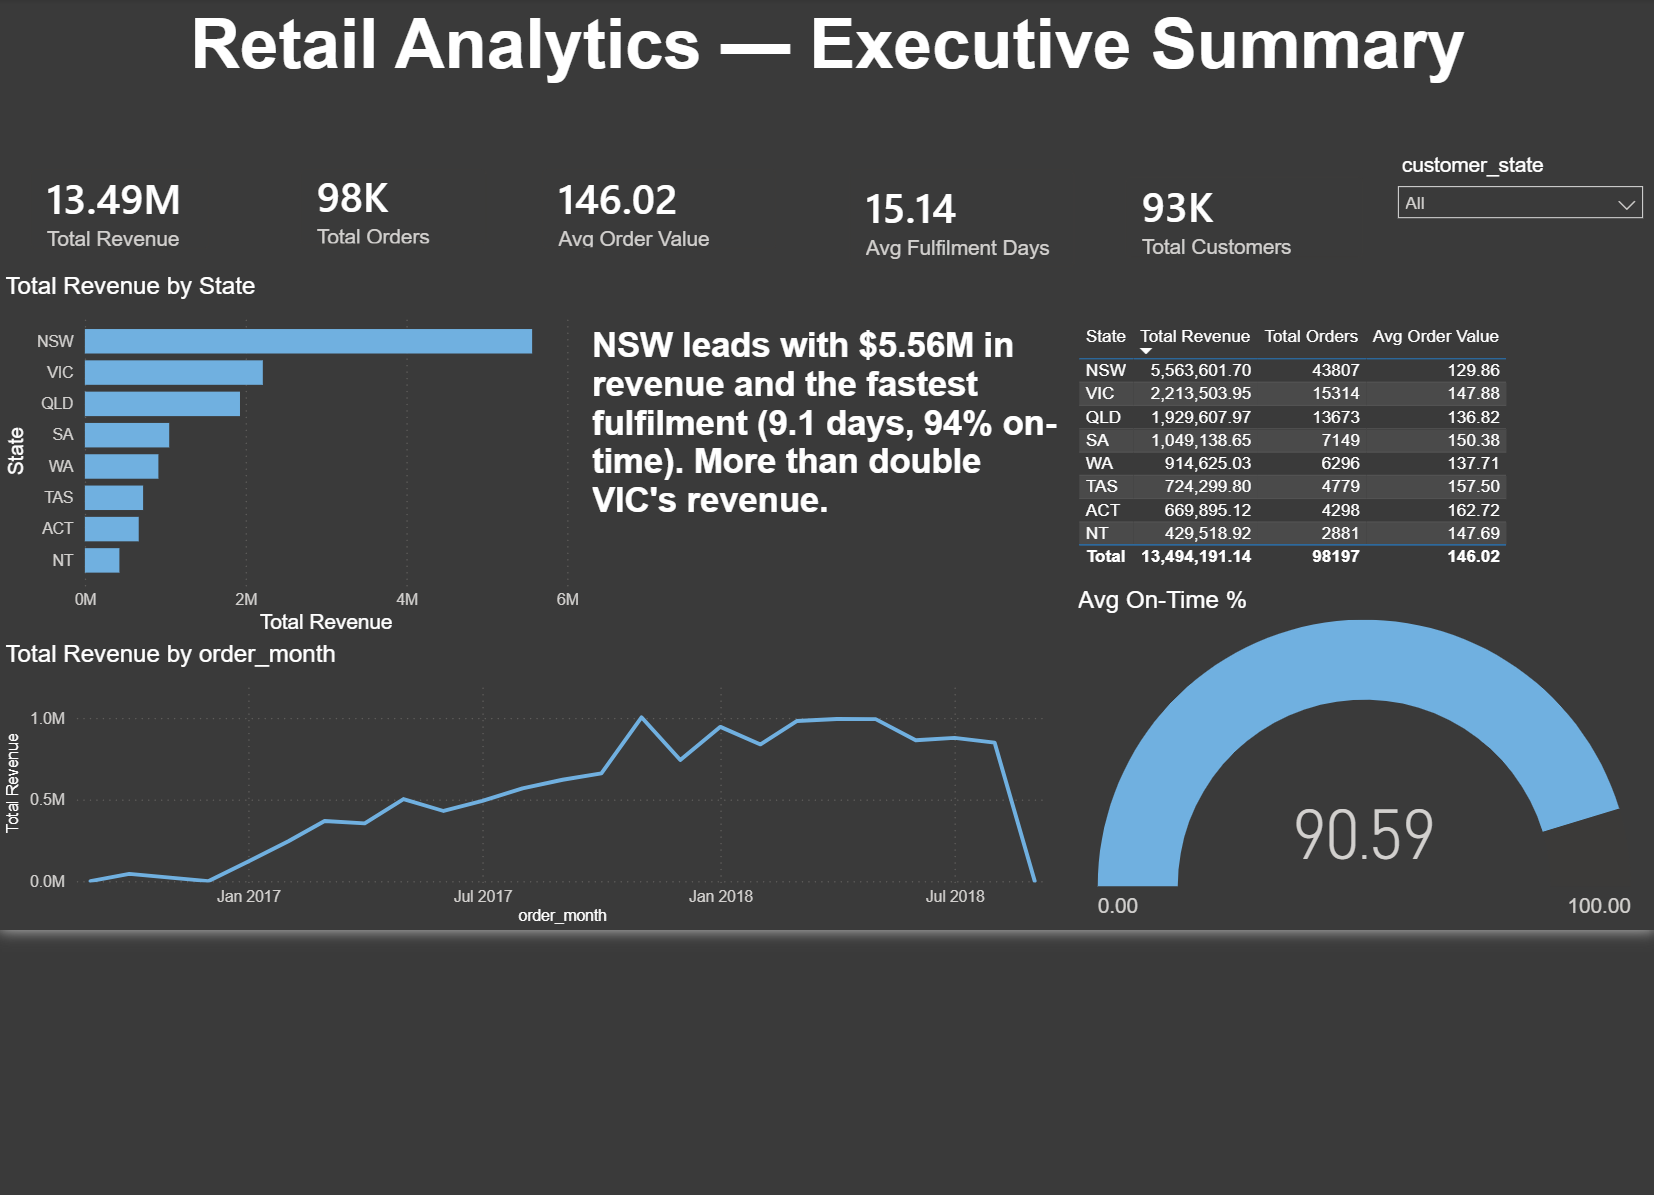

Layout of this report page (visuals, bound fields, positions):
{"tool":"powerbi","page":{"name":"Page 1","canvas":[1280,720],"ordinal":0},"visuals":[{"type":"cardVisual","fields":{"Data":["sales_summary_monthly.Total Orders"]},"box":[215.2,114.7,178,93.5],"z":0},{"type":"cardVisual","fields":{"Data":["sales_summary_monthly.Avg Order Value"]},"box":[402.3,114.7,215.2,96.6],"z":1000},{"type":"cardVisual","fields":{"Data":["fulfilment_metrics.Avg Fulfilment Days"]},"box":[639.7,114.7,208.2,110.6],"z":2000},{"type":"lineChart","fields":{"Y":["sales_summary_monthly.Total Revenue"],"Category":["sales_summary_monthly.order_month"]},"box":[0,495.8,827.7,224.3],"z":3000},{"type":"clusteredBarChart","title":"Total Revenue by State","fields":{"Category":["sales_summary_monthly.customer_state"],"Y":["Sum(sales_summary_monthly.total_revenue)"]},"box":[0,212.2,452.6,283.6],"z":4000},{"type":"slicer","fields":{"Values":["sales_summary_monthly.customer_state"]},"box":[1071.1,114.7,209.2,100.6],"z":5000},{"type":"cardVisual","fields":{"Data":["sales_summary_monthly.Total Revenue"]},"box":[7,114.7,173,96.6],"z":6000},{"type":"textbox","box":[452.6,248.4,376.2,189.1],"z":7000},{"type":"textbox","box":[0,0,1280.4,114.7],"z":8000},{"type":"cardVisual","fields":{"Data":["customer_rfm.Total Customers"]},"box":[852.9,120.7,218.3,97.6],"z":9000},{"type":"tableEx","fields":{"Values":["sales_summary_monthly.customer_state","sales_summary_monthly.Total Revenue","sales_summary_monthly.Total Orders","sales_summary_monthly.Avg Order Value"]},"box":[828.8,248.4,451.6,206.2],"z":11000},{"type":"gauge","fields":{"Y":["fulfilment_metrics.Avg On-Time %"]},"box":[828.8,454.6,451.6,264.5],"z":12000}]}

Visuals, with their boxes on the page's 1280x720 design canvas (x1, y1, x2, y2). These are canvas units, not pixel positions in the 1654x1195 screenshot, which may show the page scaled, cropped or inside an application window:
cardVisual - sales_summary_monthly.Total Orders: l=215, t=115, r=393, b=208
cardVisual - sales_summary_monthly.Avg Order Value: l=402, t=115, r=618, b=211
cardVisual - fulfilment_metrics.Avg Fulfilment Days: l=640, t=115, r=848, b=225
lineChart - sales_summary_monthly.Total Revenue x sales_summary_monthly.order_month: l=0, t=496, r=828, b=720
"Total Revenue by State" clusteredBarChart: l=0, t=212, r=453, b=496
slicer - sales_summary_monthly.customer_state: l=1071, t=115, r=1280, b=215
cardVisual - sales_summary_monthly.Total Revenue: l=7, t=115, r=180, b=211
textbox: l=453, t=248, r=829, b=438
textbox: l=0, t=0, r=1280, b=115
cardVisual - customer_rfm.Total Customers: l=853, t=121, r=1071, b=218
tableEx - sales_summary_monthly.customer_state x sales_summary_monthly.Total Revenue: l=829, t=248, r=1280, b=455
gauge - fulfilment_metrics.Avg On-Time %: l=829, t=455, r=1280, b=719
